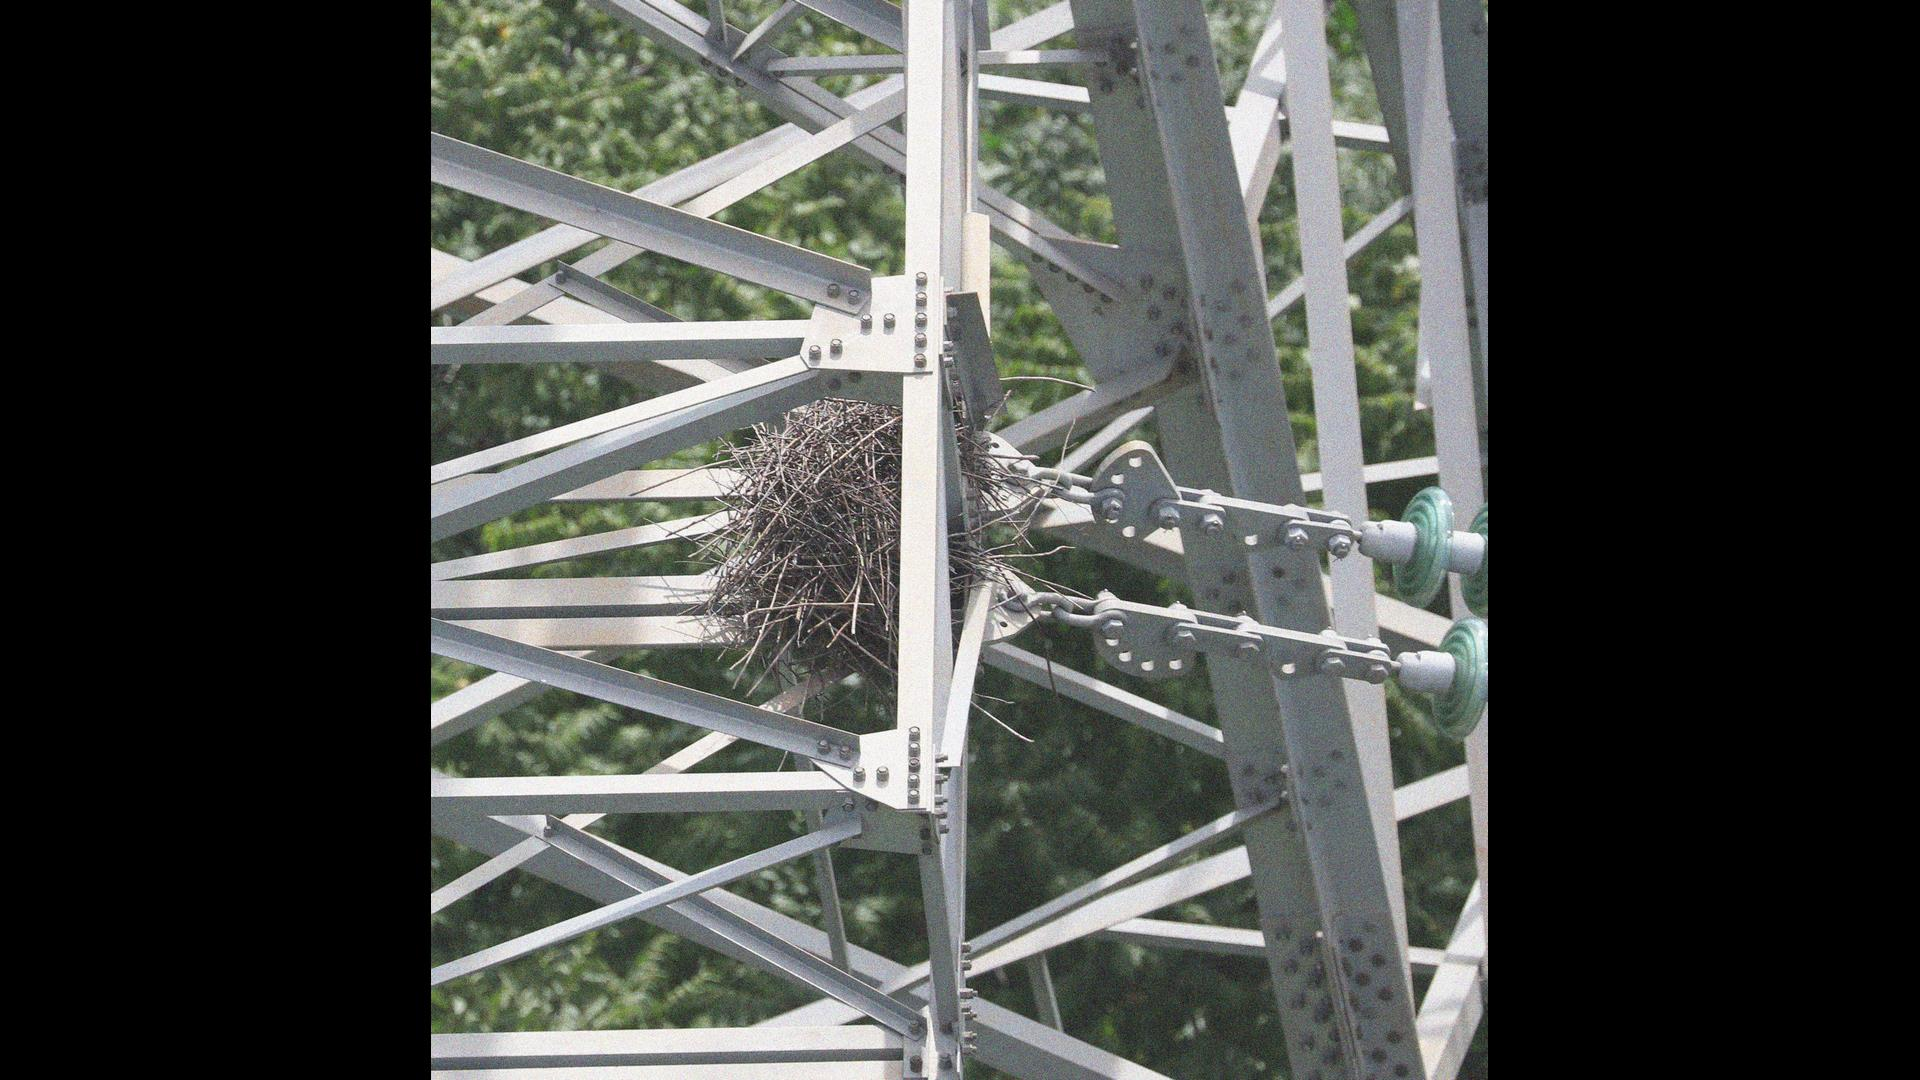niaowo: (695, 367, 1018, 676)
